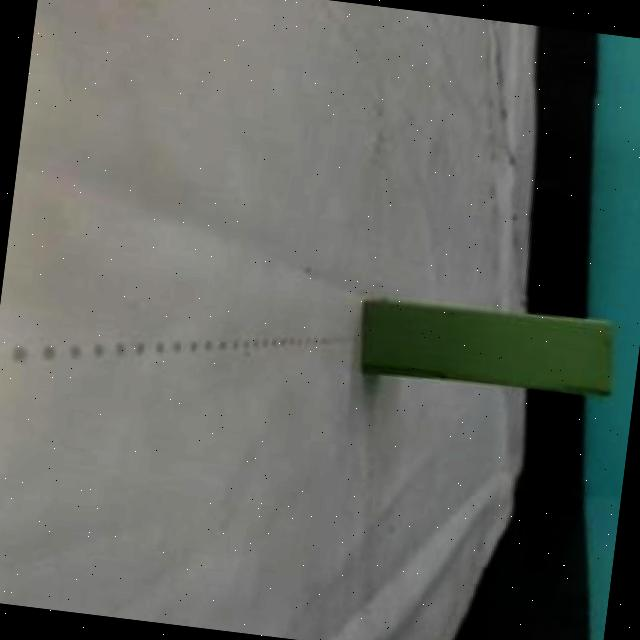greenbox: (354, 288, 620, 400)
